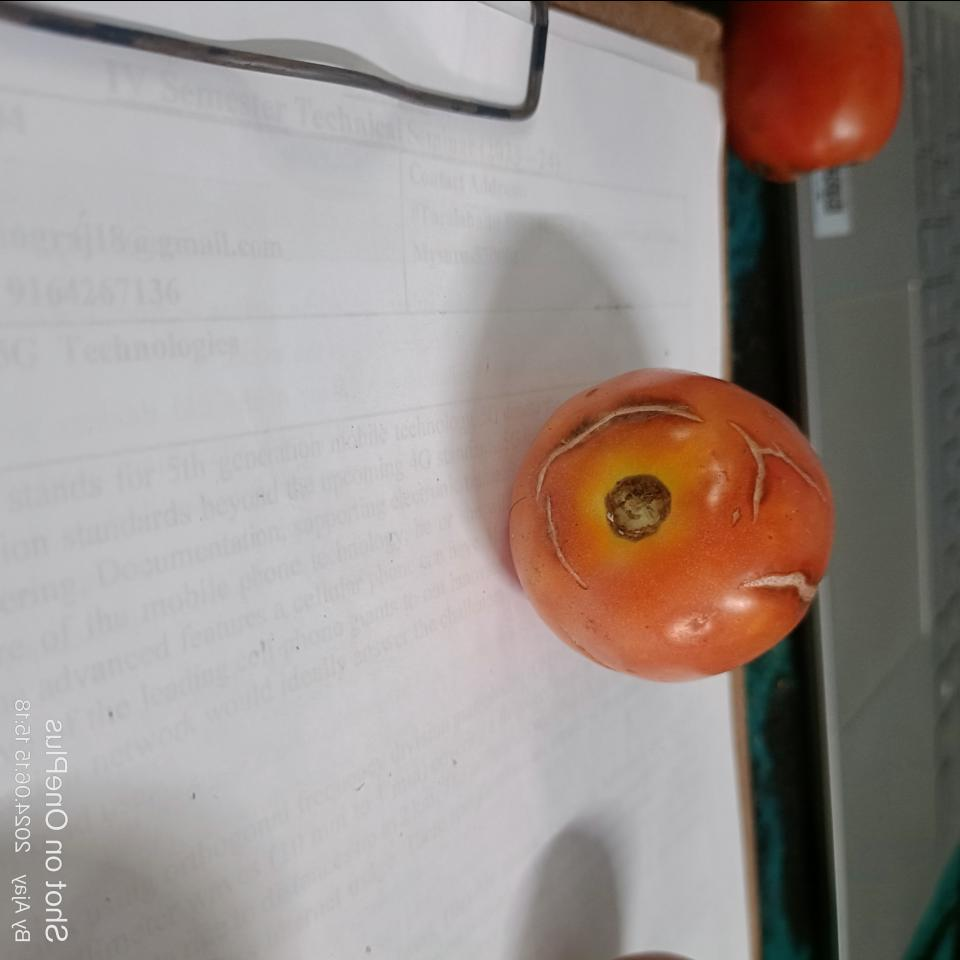Cracking: (735, 419, 826, 588), (544, 386, 682, 476)
